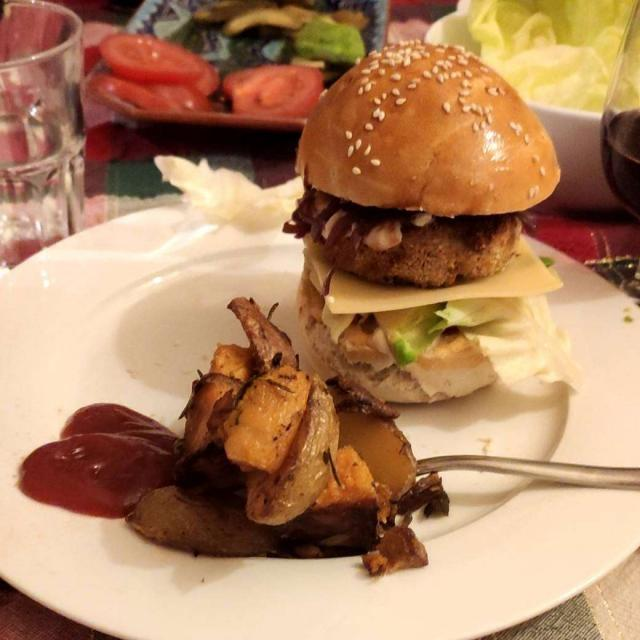cheese: (308, 243, 569, 323)
ketchup: (23, 402, 207, 523)
potatoes: (138, 298, 438, 568)
sauce: (295, 42, 566, 432)
